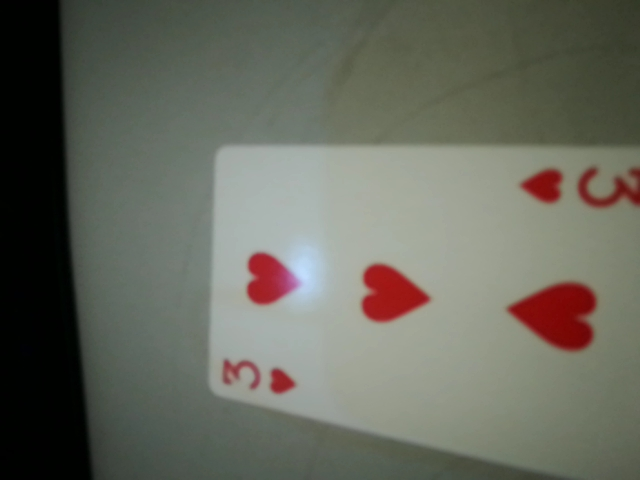hx 3: (514, 153, 640, 221)
